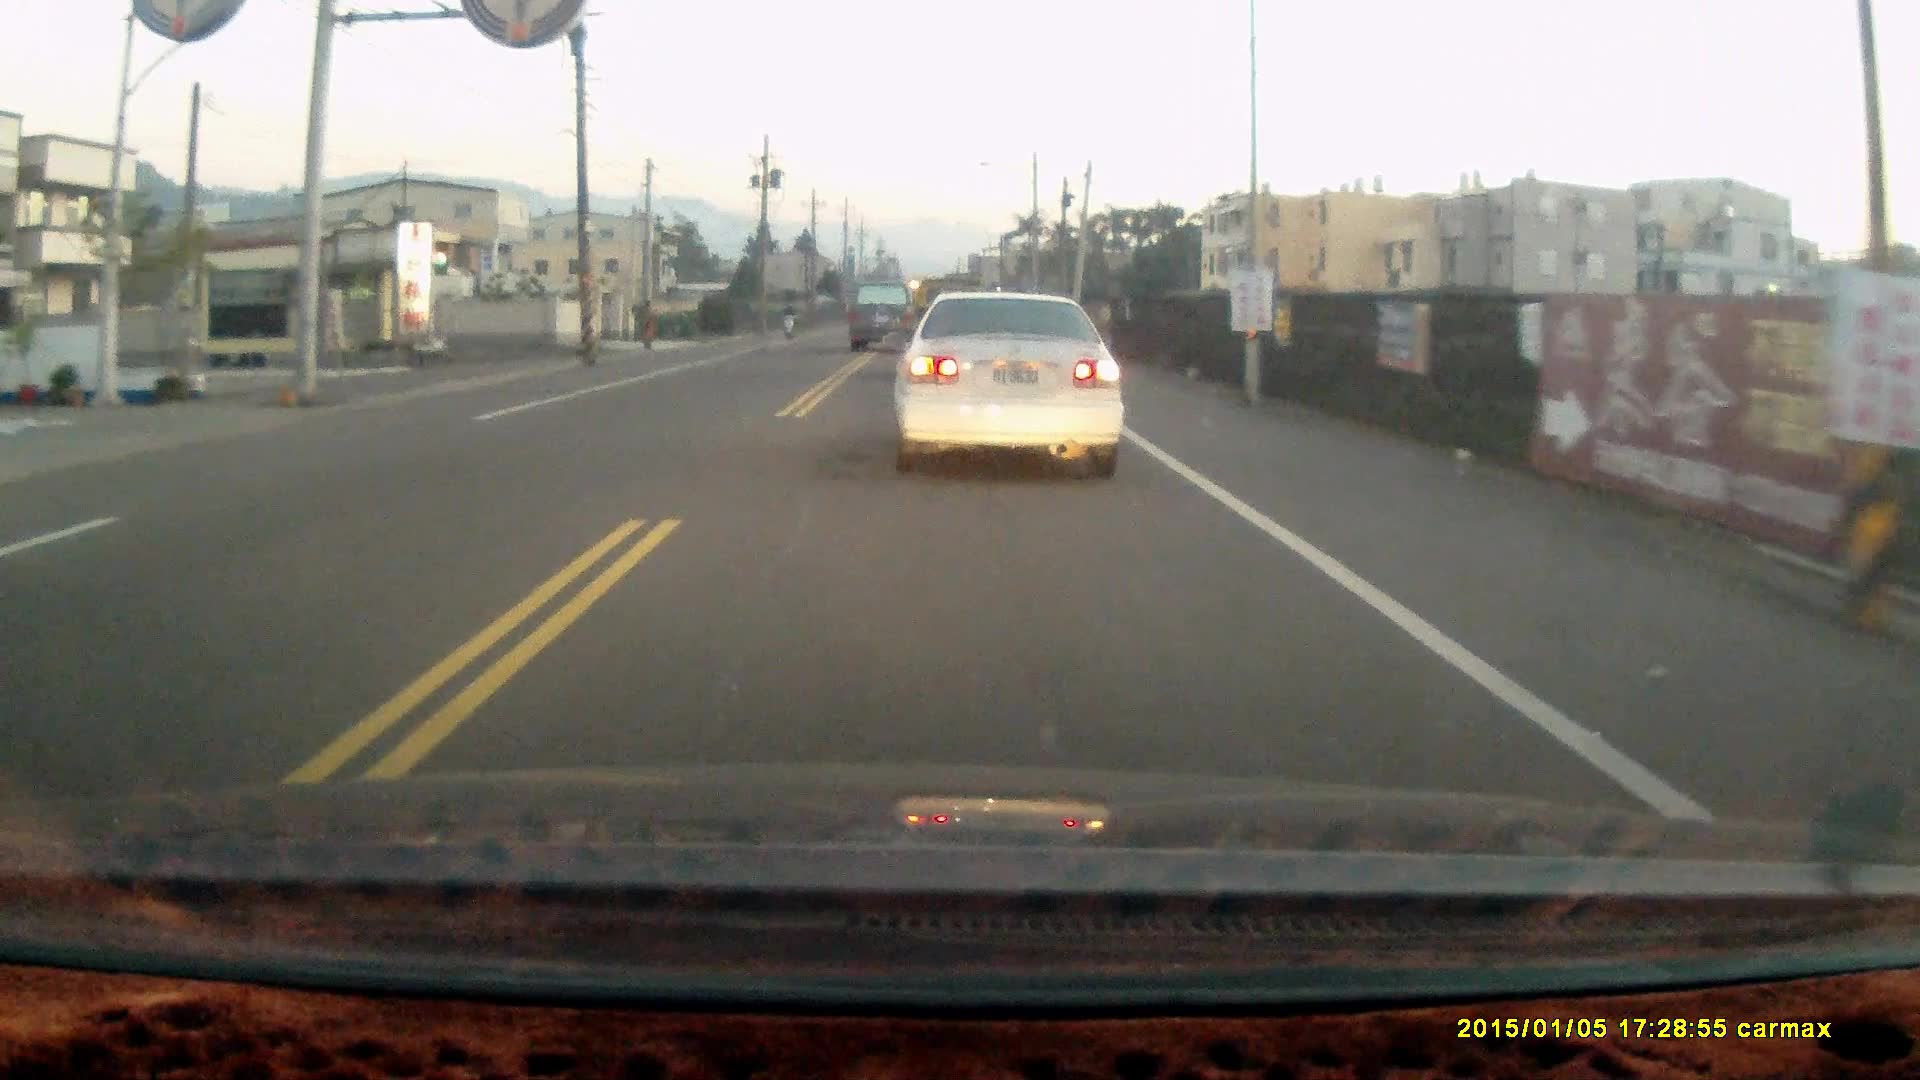rider: (779, 300, 799, 342)
vehicle: (888, 292, 1132, 484), (846, 279, 922, 356)
